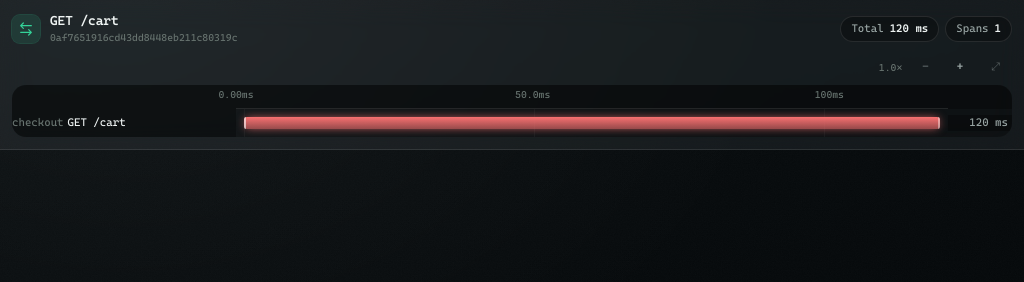
Scenario: renders the real waterfall when the trace has spans
Expected: the text "120 ms" is shown 2 times, [890,20,928,36]; [948,115,1012,131]
Expected: the heading "GET /cart" is shown, [50,13,119,28]
// clicking the span opens its detail with the status message
Click the button "GET /cart" at [69, 123], box [12,115,126,131]
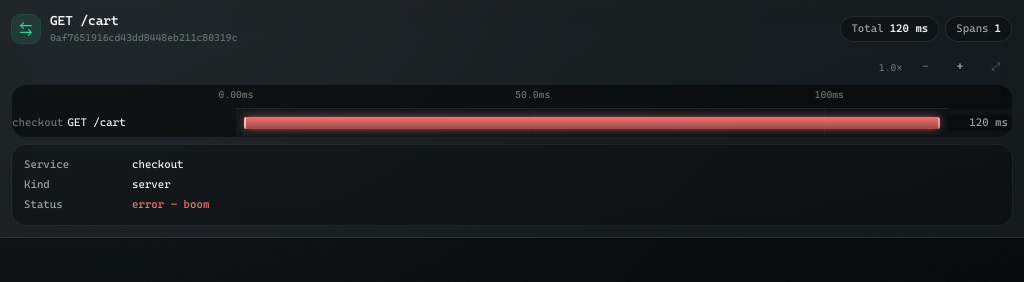
Result: the text "error — boom" is shown at [132,198,209,211]
